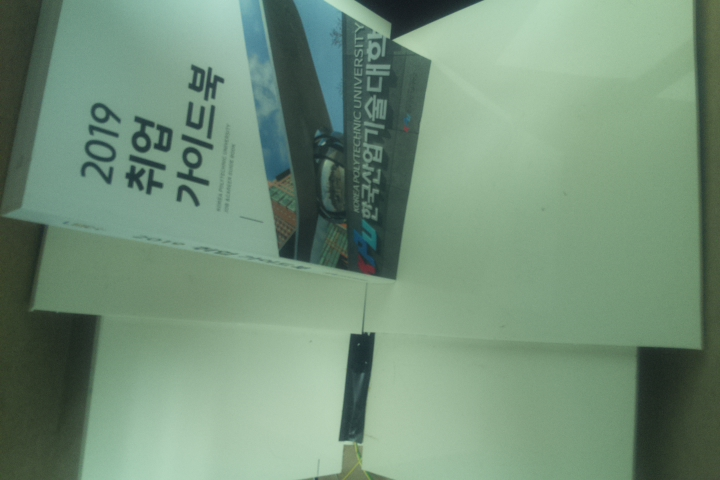book: (1, 1, 435, 289)
